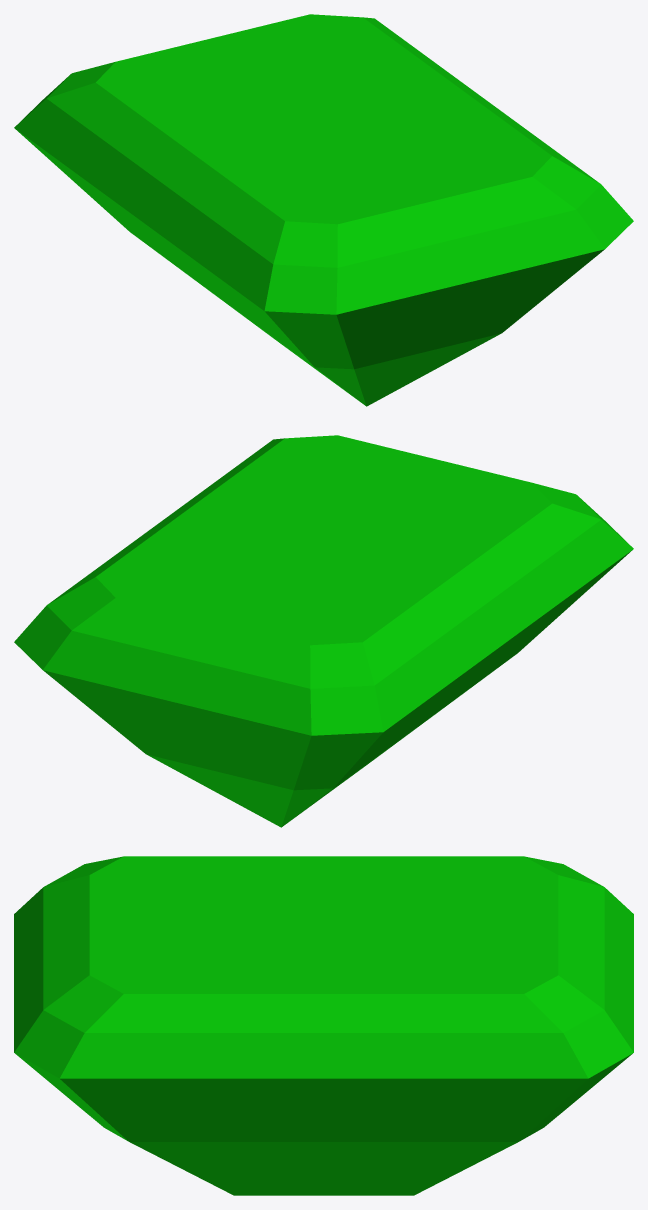
Rendered from emerald.glb.
The picture shows the model from 3 angles, top to bottom: view 1: azimuth 30°, elevation 25°; view 2: azimuth 150°, elevation 25°; view 3: azimuth 270°, elevation 25°; orthographic projection. The views are drawn at different scales.
Visible parts, largest first — view 1: Emerald; view 2: Emerald; view 3: Emerald.
Part boxes in pixels (x1,y1,x2,y2): Emerald: [14, 14, 633, 406]; Emerald: [14, 435, 633, 827]; Emerald: [14, 856, 633, 1195].
Size of what is drawn, in the model's own units: 0.844 by 0.5591 by 1.16.
